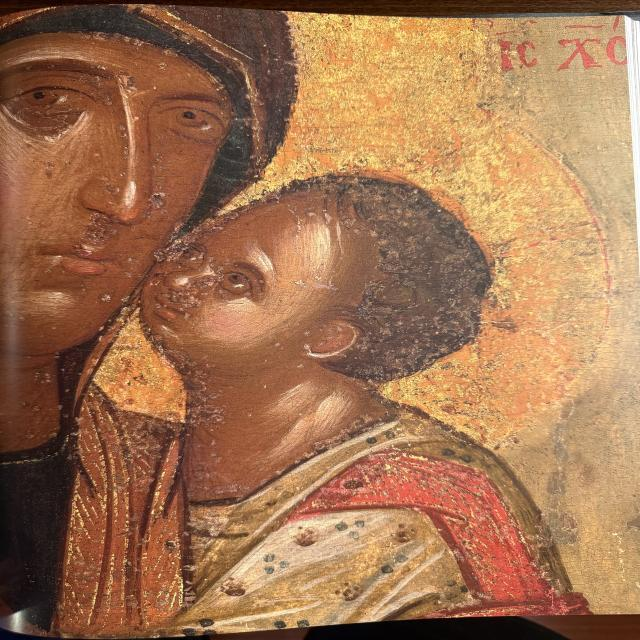christ_child: (120, 139, 554, 610)
mary_and_child: (1, 4, 640, 614)
